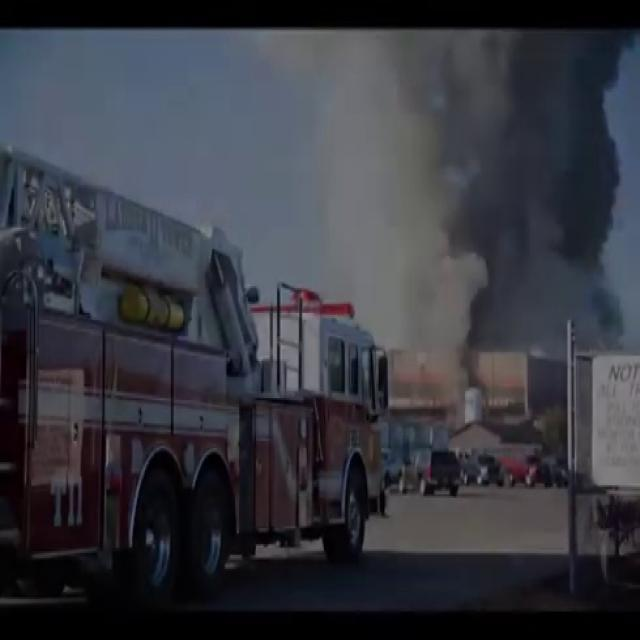Smoke: (280, 29, 640, 374), (394, 28, 638, 376)
